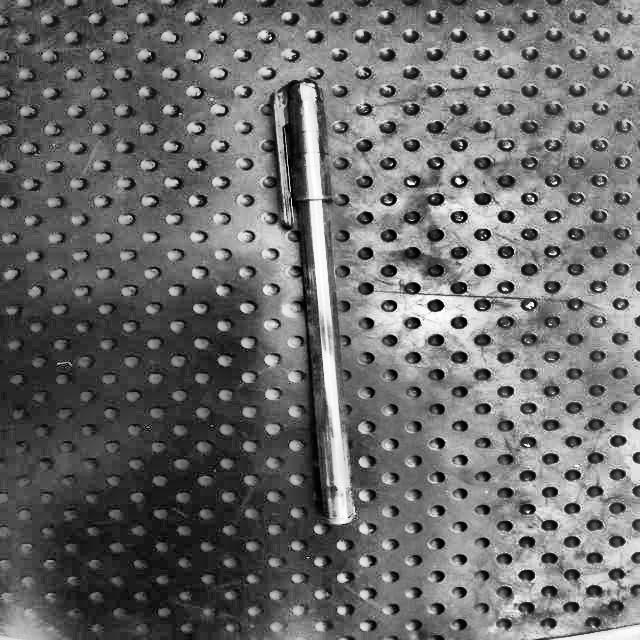Pen: (273, 79, 355, 526)
